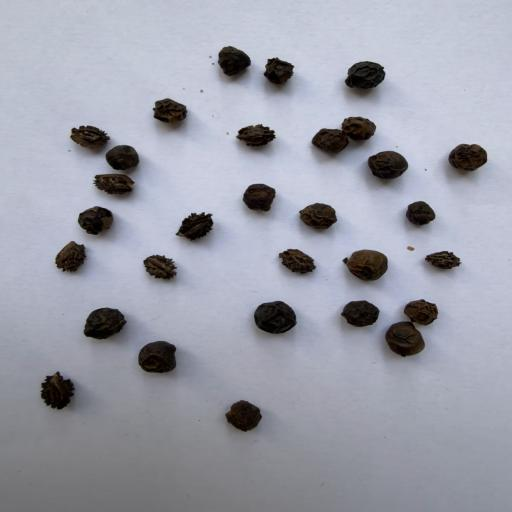Black_pepper: (251, 298, 300, 336), (342, 248, 392, 284), (220, 395, 265, 434), (134, 337, 178, 376), (78, 307, 128, 339), (347, 57, 389, 95), (386, 321, 426, 360), (215, 43, 255, 80), (235, 182, 280, 214), (74, 202, 119, 234), (260, 57, 304, 89), (367, 147, 408, 181), (296, 202, 344, 231), (400, 295, 444, 325), (308, 126, 348, 157), (451, 142, 489, 173), (148, 96, 190, 124), (100, 147, 146, 172), (340, 298, 382, 324), (401, 201, 441, 228), (342, 117, 379, 141)
papaya_seed: (24, 369, 79, 414), (172, 206, 220, 248), (133, 251, 187, 288), (226, 115, 282, 150), (48, 233, 91, 276), (88, 172, 142, 200), (427, 246, 468, 279), (63, 119, 111, 147), (280, 242, 318, 274)
